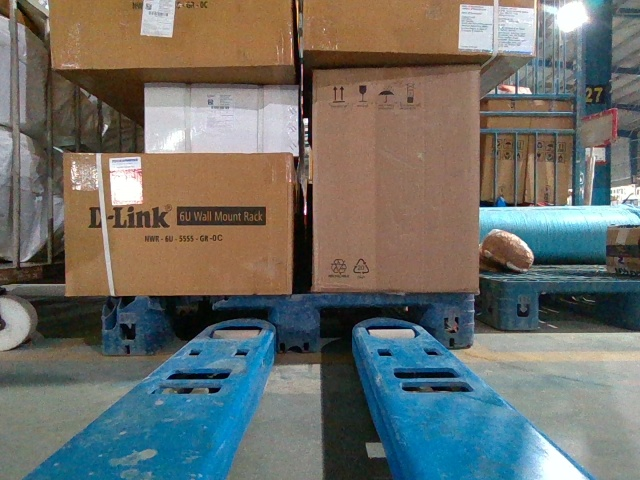block: (102, 296, 158, 356), (273, 297, 319, 353), (431, 294, 476, 346), (499, 281, 538, 330)
front: (101, 295, 472, 353)
hole pallet: (151, 305, 271, 350), (318, 304, 428, 353), (541, 296, 638, 329)
